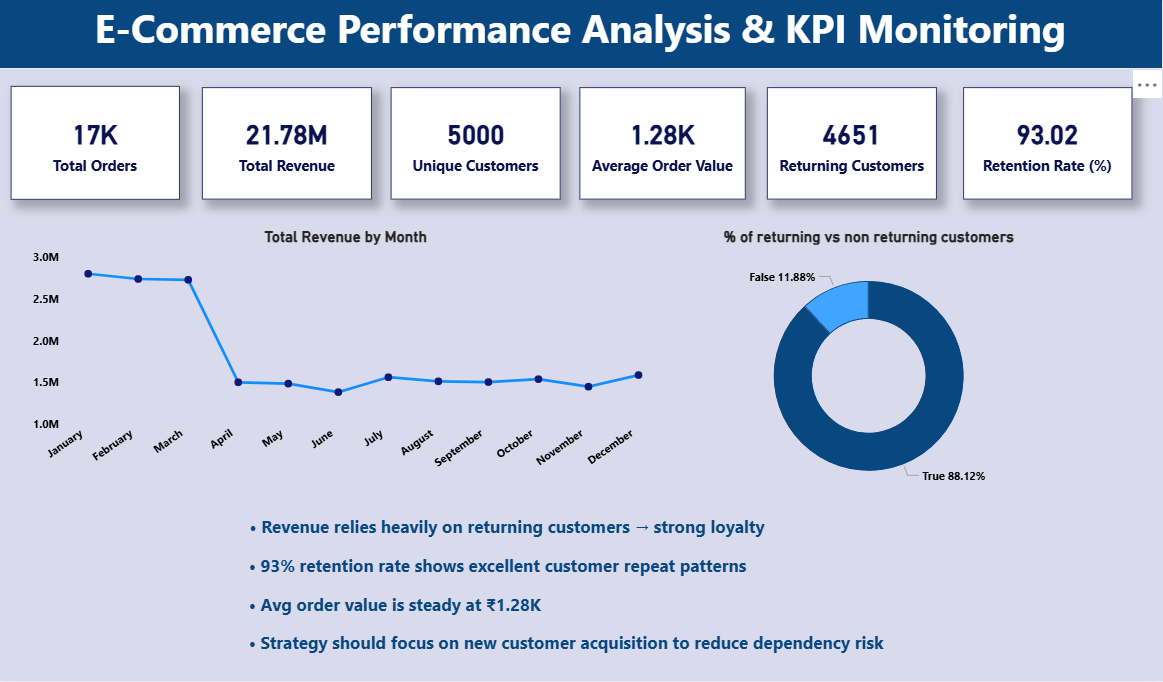

What the dashboard file says about the page in this screenshot:
{"tool":"powerbi","page":{"name":"KPI Overview","canvas":[1280,752],"ordinal":0},"visuals":[{"type":"card","fields":{"Values":["ecommerce_eda ecommerce_cleaned.Total Orders"]},"box":[15.1,98.8,185.2,124.9],"z":0},{"type":"card","fields":{"Values":["ecommerce_eda ecommerce_cleaned.Total Revenue"]},"box":[225,100.2,186.6,123.5],"z":1000},{"type":"card","fields":{"Values":["ecommerce_eda ecommerce_cleaned.Unique Customers"]},"box":[432.2,100.2,186.6,123.5],"z":2000},{"type":"card","fields":{"Values":["ecommerce_eda ecommerce_cleaned.Average Order Value"]},"box":[639.5,100.2,182.5,123.5],"z":3000},{"type":"card","fields":{"Values":["ecommerce_eda ecommerce_cleaned.Returning Customers"]},"box":[845.3,100.2,186.6,123.5],"z":4000},{"type":"card","fields":{"Values":["ecommerce_eda ecommerce_cleaned.Retention Rate (%)"]},"box":[1060.7,100.2,185.2,123.5],"z":5000},{"type":"lineChart","title":"Total Revenue by Month","fields":{"Y":["ecommerce_cleaned.Total Revenue"],"Category":["ecommerce_cleaned.Date.Variation.Date Hierarchy.Month"]},"box":[34.3,253.9,697.1,284],"z":6000},{"type":"donutChart","title":"% of returning vs non returning customers","fields":{"Category":["ecommerce_cleaned.Is_Returning_Customer"],"Y":["ecommerce_cleaned.Total Revenue"]},"box":[731.4,253.9,451.5,307.4],"z":7000},{"type":"textbox","box":[0,0,1280.3,79.6],"z":8000},{"type":"textbox","box":[266.4,560.9,823.1,190.7],"z":9000}]}

Visuals, with their boxes in screenshot pixels (x1, y1, x2, y2), scaled from the page's 1280x752 canvas onto the 1163x682 screenshot:
card - ecommerce_eda ecommerce_cleaned.Total Orders: 14, 90, 182, 203
card - ecommerce_eda ecommerce_cleaned.Total Revenue: 204, 91, 374, 203
card - ecommerce_eda ecommerce_cleaned.Unique Customers: 393, 91, 562, 203
card - ecommerce_eda ecommerce_cleaned.Average Order Value: 581, 91, 747, 203
card - ecommerce_eda ecommerce_cleaned.Returning Customers: 768, 91, 938, 203
card - ecommerce_eda ecommerce_cleaned.Retention Rate (%): 964, 91, 1132, 203
"Total Revenue by Month" lineChart: 31, 230, 665, 488
"% of returning vs non returning customers" donutChart: 665, 230, 1075, 509
textbox: 0, 0, 1162, 72
textbox: 242, 509, 990, 681
